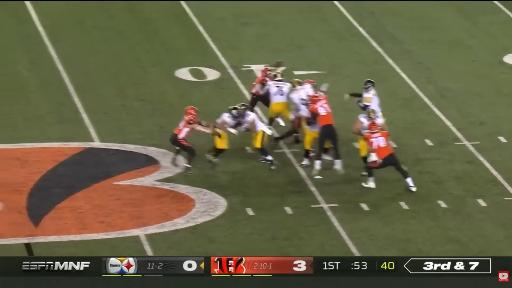Helmet: (185, 106, 197, 123), (229, 106, 241, 117), (309, 94, 322, 104), (369, 121, 380, 132), (185, 106, 197, 116), (272, 71, 284, 81), (236, 103, 250, 111), (261, 67, 271, 77), (364, 80, 375, 89), (367, 108, 376, 119), (291, 79, 303, 87), (304, 80, 317, 85)
Jersey: (290, 84, 314, 117), (365, 131, 393, 159), (309, 96, 334, 127), (267, 82, 291, 103), (362, 89, 381, 115), (243, 112, 265, 132), (174, 117, 194, 138), (217, 113, 237, 127), (252, 77, 267, 95), (358, 114, 371, 133), (306, 117, 319, 131)
Player: (362, 121, 416, 191), (170, 106, 214, 173), (309, 94, 343, 178), (274, 79, 315, 143), (241, 105, 275, 168), (207, 106, 242, 164), (352, 109, 387, 165), (345, 80, 384, 121), (267, 72, 291, 126), (345, 80, 381, 115), (249, 68, 272, 111), (300, 117, 319, 167), (250, 68, 271, 111)
